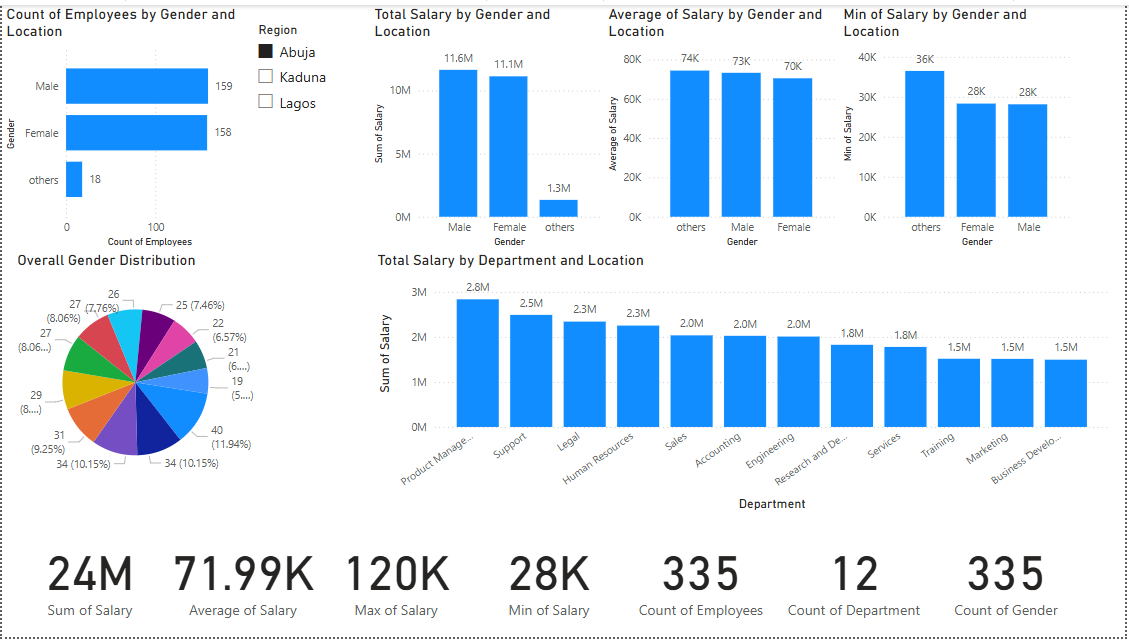

What the dashboard file says about the page in this screenshot:
{"tool":"powerbi","page":{"name":"Page 1","canvas":[1280,720],"ordinal":0},"visuals":[{"type":"clusteredBarChart","fields":{"Category":["Palmoria Group emp-data.Gender"],"Y":["CountNonNull(Palmoria Group emp-data.Employees)"],"Series":["Palmoria Group emp-data.Location"]},"box":[0,0,278.9,280.3],"z":0},{"type":"pieChart","title":"Overall Gender Distribution","fields":{"Y":["CountNonNull(Palmoria Group emp-data.Gender)"],"Category":["Palmoria Group emp-data.Department"]},"box":[12.1,280.3,278.9,280.3],"z":1000},{"type":"slicer","fields":{"Values":["Palmoria Group emp-data.Location"]},"box":[278.9,14.8,278.9,149.6],"z":2000},{"type":"clusteredColumnChart","title":"Total Salary by Gender and Location","fields":{"Category":["Palmoria Group emp-data.Gender"],"Y":["Sum(Palmoria Group emp-data.Salary)"],"Series":["Palmoria Group emp-data.Location"]},"box":[419,0,266.8,280.3],"z":3000},{"type":"clusteredColumnChart","fields":{"Category":["Palmoria Group emp-data.Gender"],"Y":["Avg(Palmoria Group emp-data.Salary)"],"Series":["Palmoria Group emp-data.Location"]},"box":[685.8,0,268.1,280.3],"z":4000},{"type":"clusteredColumnChart","fields":{"Category":["Palmoria Group emp-data.Gender"],"Y":["Min(Palmoria Group emp-data.Salary)"],"Series":["Palmoria Group emp-data.Location"]},"box":[953.9,0,268.1,280.3],"z":5000},{"type":"clusteredColumnChart","title":"Total Salary by Department and Location","fields":{"Y":["Sum(Palmoria Group emp-data.Salary)"],"Category":["Palmoria Group emp-data.Department"],"Series":["Palmoria Group emp-data.Location"]},"box":[423.1,280.3,843.5,300.5],"z":6000},{"type":"card","fields":{"Values":["Sum(Palmoria Group emp-data.Salary)"]},"box":[12.1,580.7,175.2,138.8],"z":7000},{"type":"card","fields":{"Values":["Avg(Palmoria Group emp-data.Salary)"]},"box":[187.3,580.7,175.2,138.8],"z":8000},{"type":"card","fields":{"Values":["Max(Palmoria Group emp-data.Salary)"]},"box":[361.1,580.7,175.2,138.8],"z":9000},{"type":"card","fields":{"Values":["Min(Palmoria Group emp-data.Salary)"]},"box":[534.9,580.7,175.2,138.8],"z":10000},{"type":"card","fields":{"Values":["CountNonNull(Palmoria Group emp-data.Employees)"]},"box":[708.7,580.7,175.2,138.8],"z":11000},{"type":"card","fields":{"Values":["Count(Palmoria Group emp-data.Department)"]},"box":[882.5,580.7,175.2,138.8],"z":12000},{"type":"card","fields":{"Values":["CountNonNull(Palmoria Group emp-data.Gender)"]},"box":[1056.3,580.7,175.2,138.8],"z":13000}]}

Visuals, with their boxes in screenshot pixels (x1, y1, x2, y2), scaled from the page's 1280x720 canvas onto the 1129x643 screenshot:
clusteredBarChart - Palmoria Group emp-data.Gender x CountNonNull(Palmoria Group emp-data.Employees): (0, 0, 246, 250)
"Overall Gender Distribution" pieChart: (11, 250, 257, 501)
slicer - Palmoria Group emp-data.Location: (246, 13, 492, 147)
"Total Salary by Gender and Location" clusteredColumnChart: (370, 0, 605, 250)
clusteredColumnChart - Palmoria Group emp-data.Gender x Avg(Palmoria Group emp-data.Salary): (605, 0, 841, 250)
clusteredColumnChart - Palmoria Group emp-data.Gender x Min(Palmoria Group emp-data.Salary): (841, 0, 1078, 250)
"Total Salary by Department and Location" clusteredColumnChart: (373, 250, 1117, 519)
card - Sum(Palmoria Group emp-data.Salary): (11, 519, 165, 642)
card - Avg(Palmoria Group emp-data.Salary): (165, 519, 320, 642)
card - Max(Palmoria Group emp-data.Salary): (319, 519, 473, 642)
card - Min(Palmoria Group emp-data.Salary): (472, 519, 626, 642)
card - CountNonNull(Palmoria Group emp-data.Employees): (625, 519, 780, 642)
card - Count(Palmoria Group emp-data.Department): (778, 519, 933, 642)
card - CountNonNull(Palmoria Group emp-data.Gender): (932, 519, 1086, 642)
